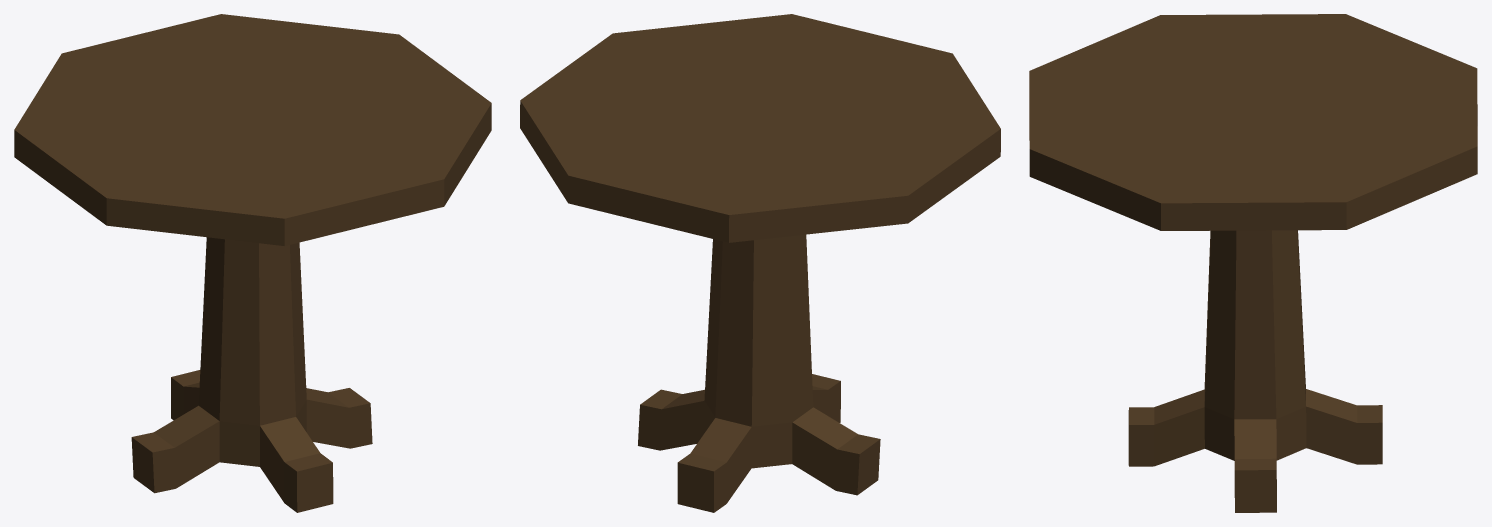
File: LowPoly_Table.fbx
3 views of the same model, side by side, from view 1: azimuth 30°, elevation 25°; view 2: azimuth 150°, elevation 25°; view 3: azimuth 270°, elevation 25° (orthographic).
Parts seen in each view (by area): view 1: Cylinder; view 2: Cylinder; view 3: Cylinder.
Boxes of the visible parts, <box> form: Cylinder: <box>14,14,491,512</box>; Cylinder: <box>520,14,1000,512</box>; Cylinder: <box>1029,14,1477,512</box>.
Size of the model in its own units: 233 by 202 by 233.
